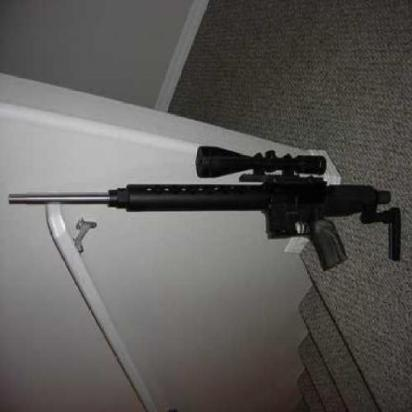Gun: (6, 136, 402, 292)
